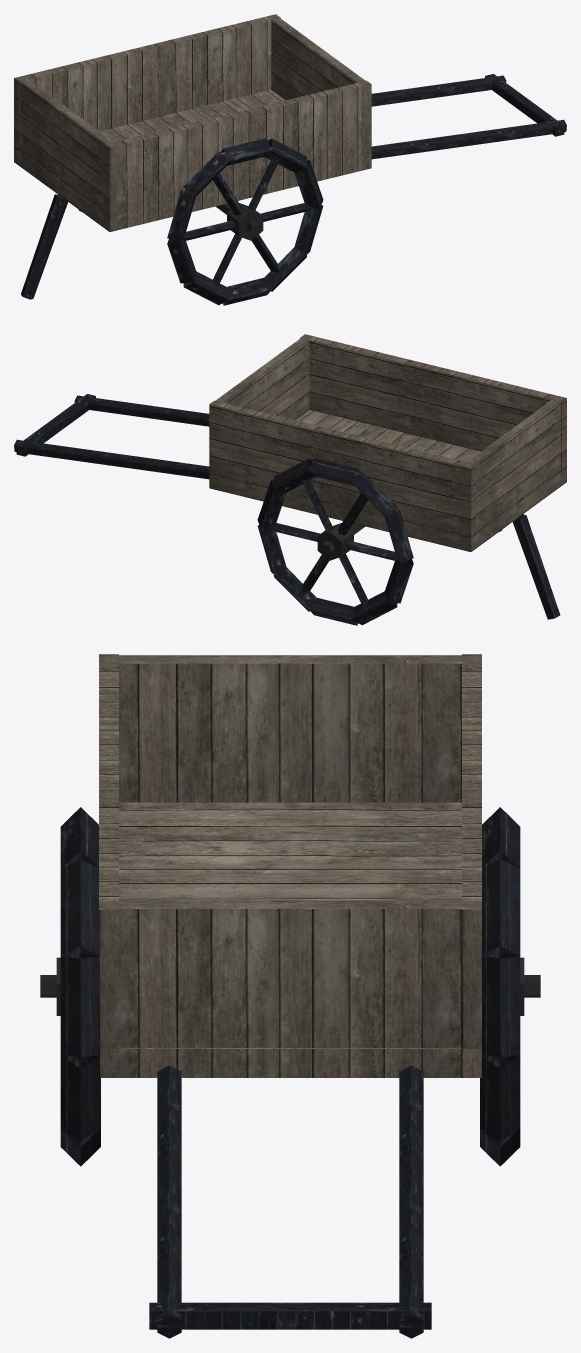
Rendered from handcart_01.glb.
3 renders of one model, top to bottom at view 1: azimuth 30°, elevation 25°; view 2: azimuth 150°, elevation 25°; view 3: azimuth 270°, elevation 25°, orthographic. The views are drawn at different scales.
Parts seen in each view (by area): view 1: handcart_01; view 2: handcart_01; view 3: handcart_01.
Boxes of the visible parts, bbox=[...] form: handcart_01: bbox=[14, 14, 566, 305]; handcart_01: bbox=[14, 334, 566, 625]; handcart_01: bbox=[40, 654, 540, 1338].
Size of the model in its own units: 2.93 by 0.9905 by 1.24.
3 materials, 3 textured.
